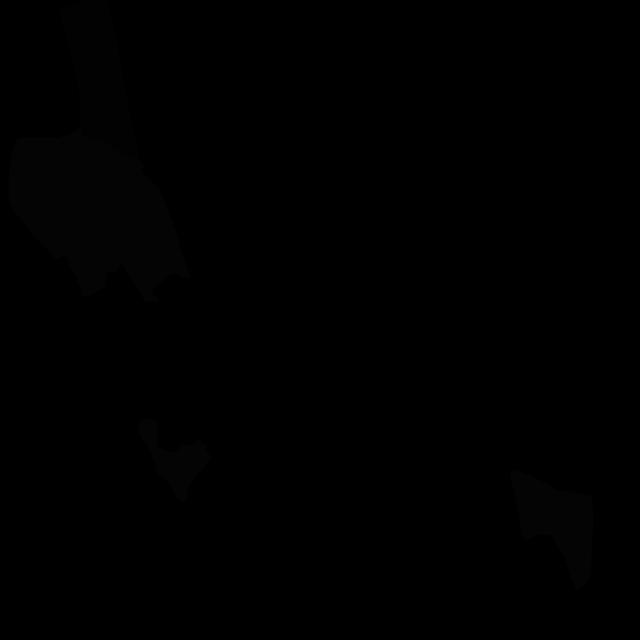soft_plastic: (8, 128, 191, 307), (510, 469, 594, 591), (138, 419, 211, 502)
